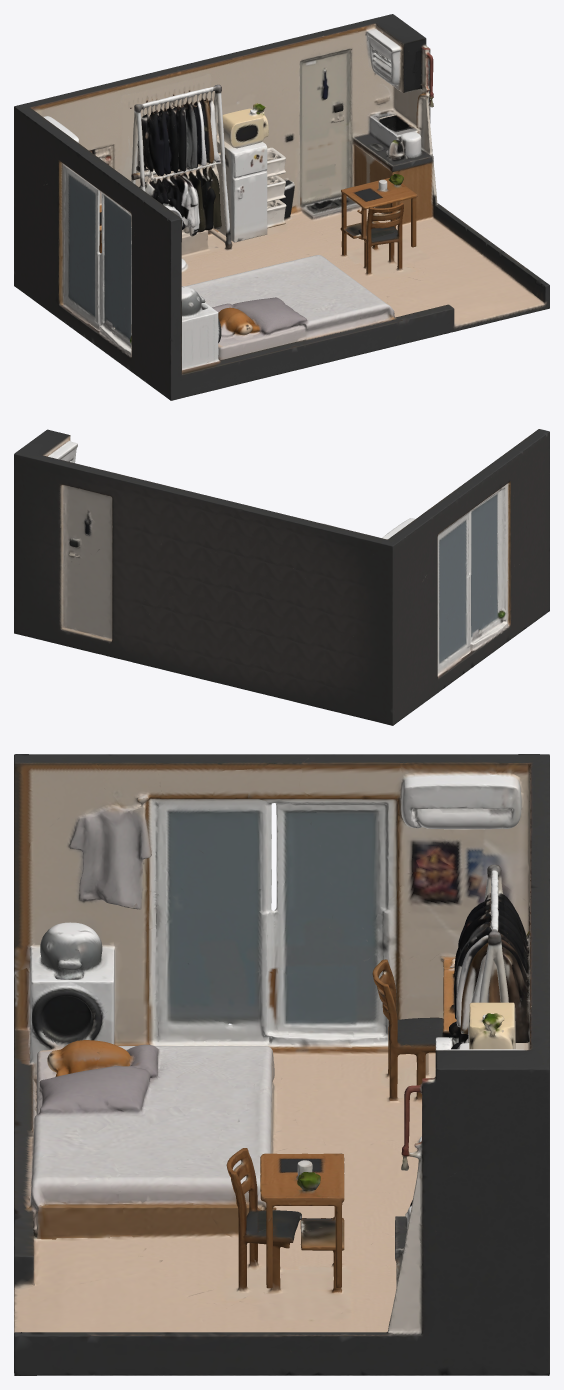
Rendered from B_My Room.glb.
3 views of the same model, one above another, from view 1: azimuth 30°, elevation 25°; view 2: azimuth 150°, elevation 25°; view 3: azimuth 270°, elevation 25° (orthographic). The views are drawn at different scales.
Size of the model in its own units: 1.9 by 0.8617 by 1.36.
1 material, 1 textured.
